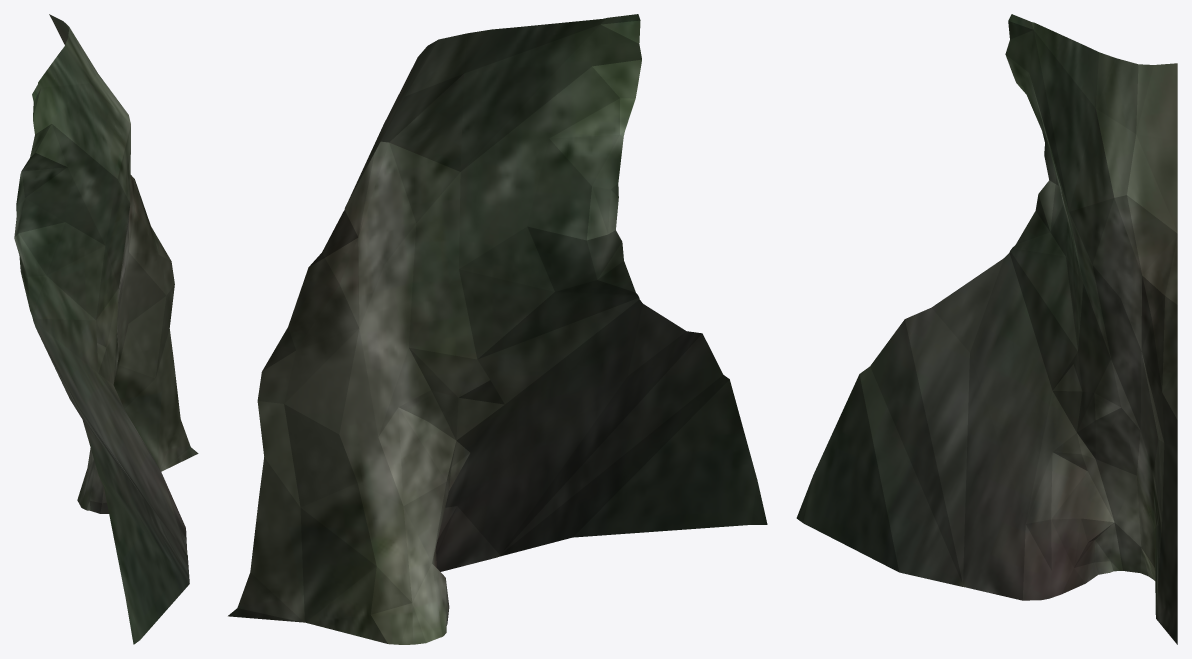
3 renders of one model, left to right at view 1: azimuth 30°, elevation 25°; view 2: azimuth 150°, elevation 25°; view 3: azimuth 270°, elevation 25°, orthographic. The views are drawn at different scales.
Size of the model in its own units: 1.59 by 2.95 by 2.02.
Materials: 2 (2 with a texture image).
